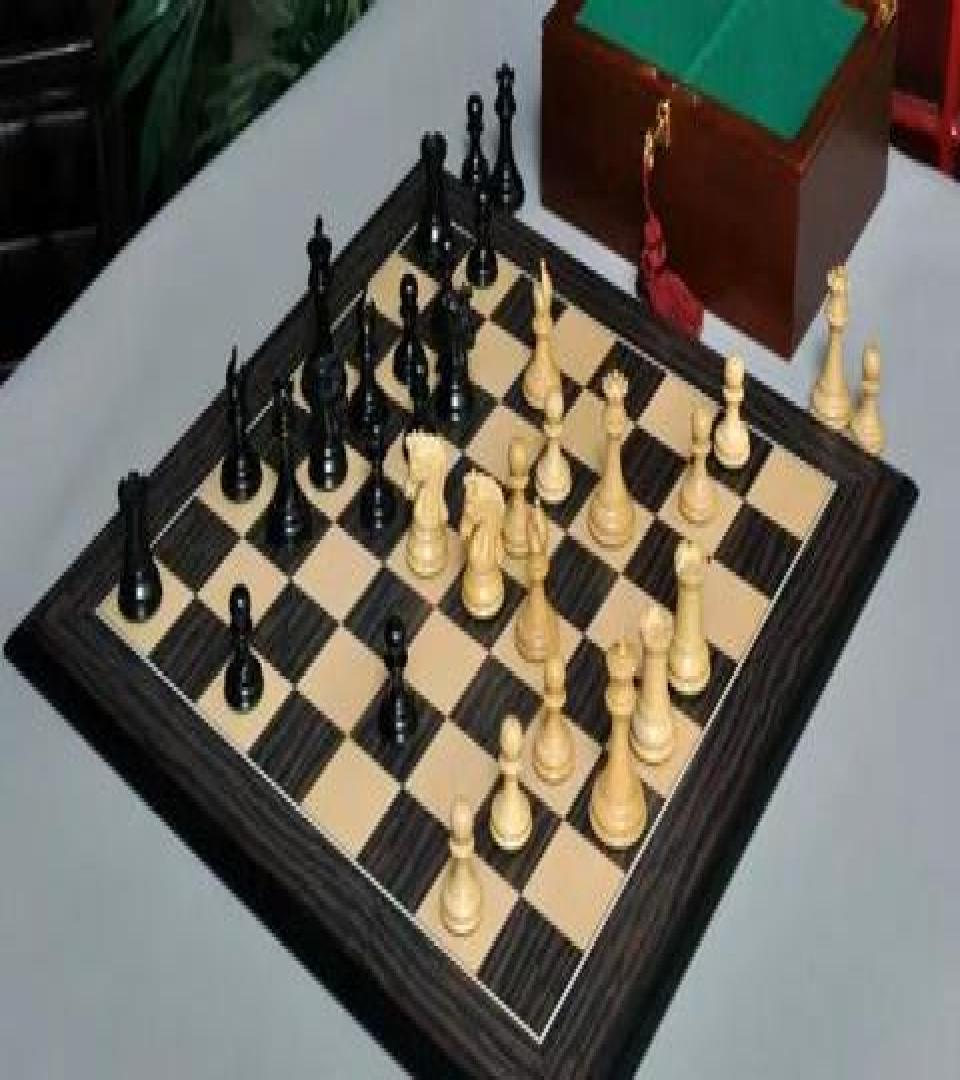xcorner: (187, 578, 201, 606), (235, 624, 249, 652), (286, 671, 300, 699), (340, 720, 354, 748), (395, 772, 409, 800), (453, 826, 467, 854), (514, 884, 528, 912), (234, 520, 248, 548), (282, 562, 296, 590), (333, 608, 347, 636), (385, 655, 399, 683), (497, 754, 511, 782), (557, 806, 571, 834), (278, 464, 292, 492), (326, 504, 340, 532), (376, 548, 390, 576), (428, 592, 442, 620), (483, 637, 497, 665), (539, 685, 553, 713), (598, 734, 612, 762), (321, 411, 335, 439), (368, 450, 382, 478), (418, 490, 432, 518), (469, 532, 483, 560), (578, 622, 592, 650), (637, 667, 651, 695), (361, 361, 375, 389), (408, 397, 422, 425), (457, 436, 471, 464), (508, 476, 522, 504), (561, 516, 575, 544), (616, 560, 630, 588), (673, 604, 687, 632), (399, 314, 413, 342), (494, 385, 508, 413), (545, 423, 559, 451), (597, 460, 611, 488), (651, 502, 665, 530), (707, 544, 721, 572), (436, 268, 450, 296), (482, 300, 496, 328), (530, 336, 544, 364), (579, 371, 593, 399), (631, 409, 645, 437), (684, 446, 698, 474), (740, 486, 754, 514), (440, 703, 454, 730), (523, 576, 537, 603), (446, 348, 460, 375)
